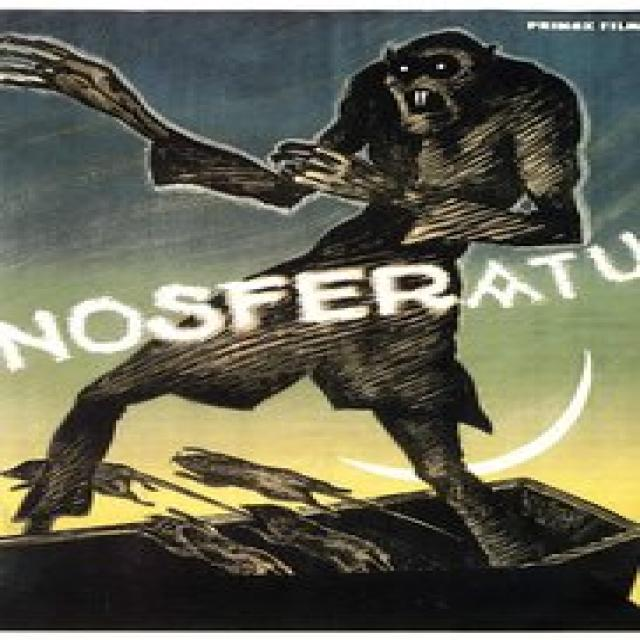movie-judul: (14, 237, 640, 374)
picture: (14, 28, 614, 559)
